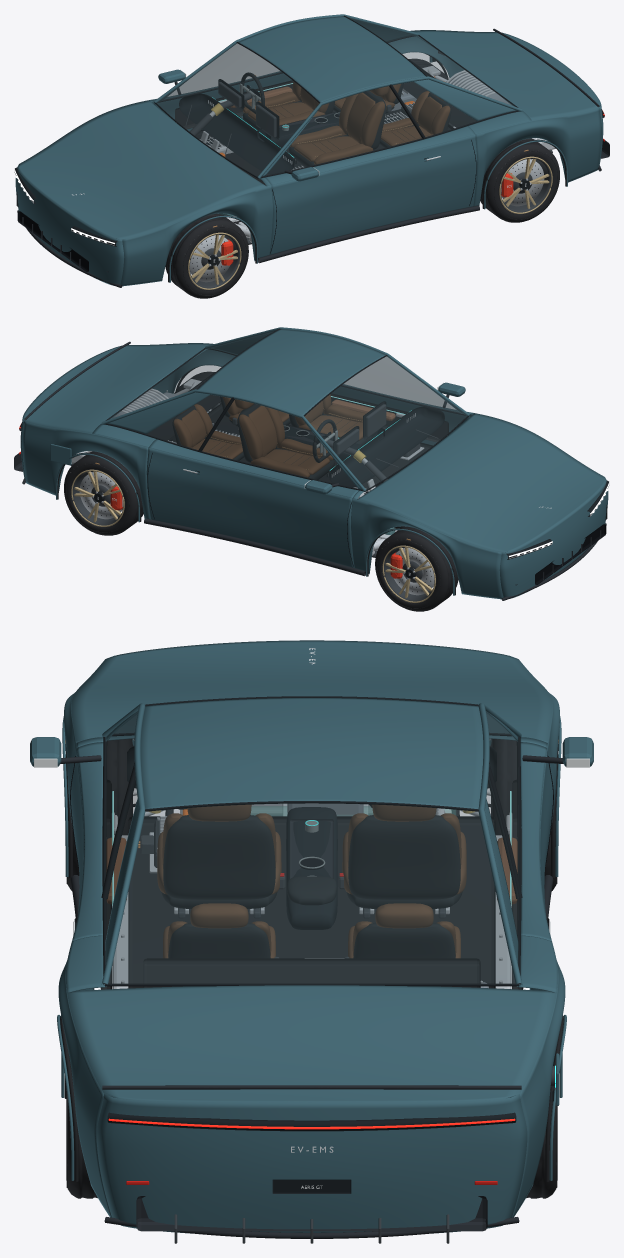
Rendered from ev-ems-gt-phase2.glb.
3 renders of one model, top to bottom at view 1: azimuth 30°, elevation 25°; view 2: azimuth 150°, elevation 25°; view 3: azimuth 270°, elevation 25°, orthographic. The views are drawn at different scales.
Visible parts, largest first — view 1: Body_Paint_AtlanticSilver, Bonnet_Paint_AtlanticSilver, Door_R_Paint_AtlanticSilver, Glass_Glass_SmokedLaminated, Door_R_Glass_SmokedLaminated, Seat_FR_Seat_Leather_Cognac, Dashboard_Interior_SoftTouch, Wheel_FR_GT_tire, Wheel_RR_GT_tire, Body_GT_carbon, Door_L_Glass_SmokedLaminated, Body_GT_gloss_black (+19 smaller); view 2: Body_Paint_AtlanticSilver, Bonnet_Paint_AtlanticSilver, Door_L_Paint_AtlanticSilver, Glass_Glass_SmokedLaminated, Door_L_Glass_SmokedLaminated, Seat_FL_Seat_Leather_Cognac, Dashboard_Interior_SoftTouch, Wheel_FL_GT_tire, Wheel_RL_GT_tire, Door_R_Glass_SmokedLaminated, Body_GT_carbon, Body_GT_gloss_black (+18 smaller); view 3: Body_Paint_AtlanticSilver, Glass_Glass_SmokedLaminated, Bonnet_Paint_AtlanticSilver, Interior_GT_carpet, Seat_FR_Seat_Leather_Charcoal, Seat_FL_Seat_Leather_Charcoal, Body_GT_gloss_black, Body_GT_carbon, Door_L_Paint_AtlanticSilver, Door_R_Paint_AtlanticSilver, Door_L_Glass_SmokedLaminated, Door_R_Glass_SmokedLaminated (+17 smaller).
Part boxes in pixels (x1,y1,x2,y2): Body_Paint_AtlanticSilver: [15, 14, 603, 286]; Bonnet_Paint_AtlanticSilver: [18, 100, 266, 239]; Door_R_Paint_AtlanticSilver: [265, 126, 477, 254]; Glass_Glass_SmokedLaminated: [157, 17, 514, 176]; Door_R_Glass_SmokedLaminated: [266, 82, 476, 175]; Seat_FR_Seat_Leather_Cognac: [290, 86, 388, 164]; Dashboard_Interior_SoftTouch: [179, 93, 294, 174]; Wheel_FR_GT_tire: [165, 213, 248, 298]; Wheel_RR_GT_tire: [480, 138, 559, 222]; Body_GT_carbon: [17, 28, 609, 287]; Door_L_Glass_SmokedLaminated: [164, 44, 280, 99]; Body_GT_gloss_black: [16, 15, 518, 272]; Body_Paint_AtlanticSilver: [20, 327, 608, 599]; Bonnet_Paint_AtlanticSilver: [357, 413, 605, 552]; Door_L_Paint_AtlanticSilver: [146, 439, 358, 567]; Glass_Glass_SmokedLaminated: [109, 330, 466, 489]; Door_L_Glass_SmokedLaminated: [147, 395, 357, 488]; Seat_FL_Seat_Leather_Cognac: [235, 399, 333, 477]; Dashboard_Interior_SoftTouch: [329, 406, 444, 487]; Wheel_FL_GT_tire: [375, 526, 458, 611]; Wheel_RL_GT_tire: [64, 451, 143, 535]; Door_R_Glass_SmokedLaminated: [343, 357, 459, 412]; Body_GT_carbon: [14, 341, 606, 600]; Body_GT_gloss_black: [104, 328, 607, 585]; Body_Paint_AtlanticSilver: [57, 655, 566, 1233]; Glass_Glass_SmokedLaminated: [108, 715, 515, 983]; Bonnet_Paint_AtlanticSilver: [71, 640, 552, 742]; Interior_GT_carpet: [128, 816, 495, 988]; Seat_FR_Seat_Leather_Charcoal: [161, 815, 277, 908]; Seat_FL_Seat_Leather_Charcoal: [346, 815, 462, 908]; Body_GT_gloss_black: [101, 696, 522, 1193]; Body_GT_carbon: [70, 745, 553, 1238]; Door_L_Paint_AtlanticSilver: [520, 737, 593, 990]; Door_R_Paint_AtlanticSilver: [30, 737, 103, 990]; Door_L_Glass_SmokedLaminated: [486, 712, 518, 939]; Door_R_Glass_SmokedLaminated: [105, 712, 137, 939].
Bounding box in the file's own units: 4.43 × 1.3 × 2.07.
